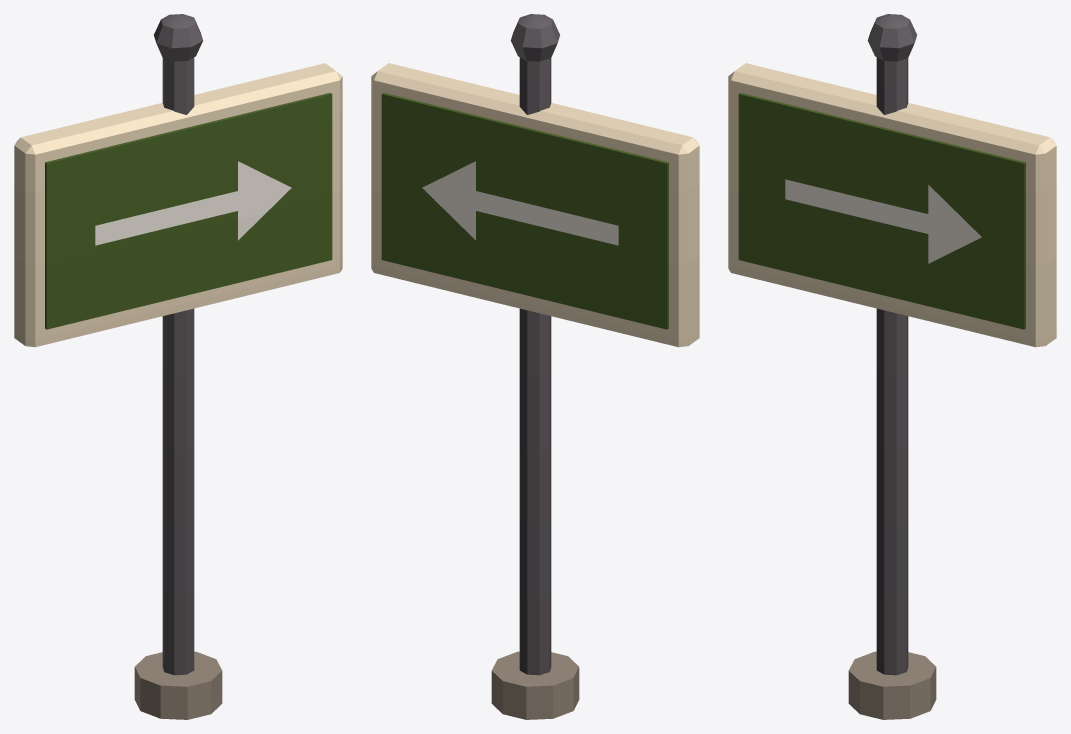
The model's file is park_sign.glb.
3 renders of one model, left to right at view 1: azimuth 30°, elevation 25°; view 2: azimuth 150°, elevation 25°; view 3: azimuth 330°, elevation 25°, orthographic.
Parts seen in each view (by area): view 1: park_sign; view 2: park_sign; view 3: park_sign.
Part boxes in pixels (x1,y1,x2,y2): park_sign: (14, 14, 342, 719); park_sign: (371, 14, 699, 719); park_sign: (728, 14, 1056, 719).
Bounding box in the file's own units: 1 × 2.07 × 0.2283.
1 material, 1 textured.
